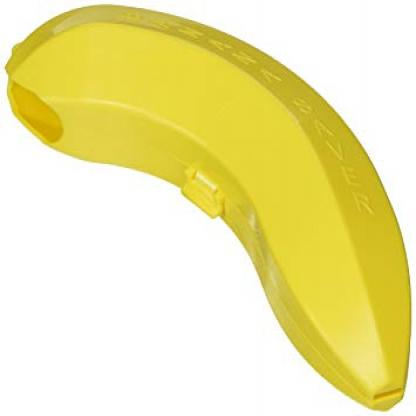banana: (0, 4, 407, 411)
